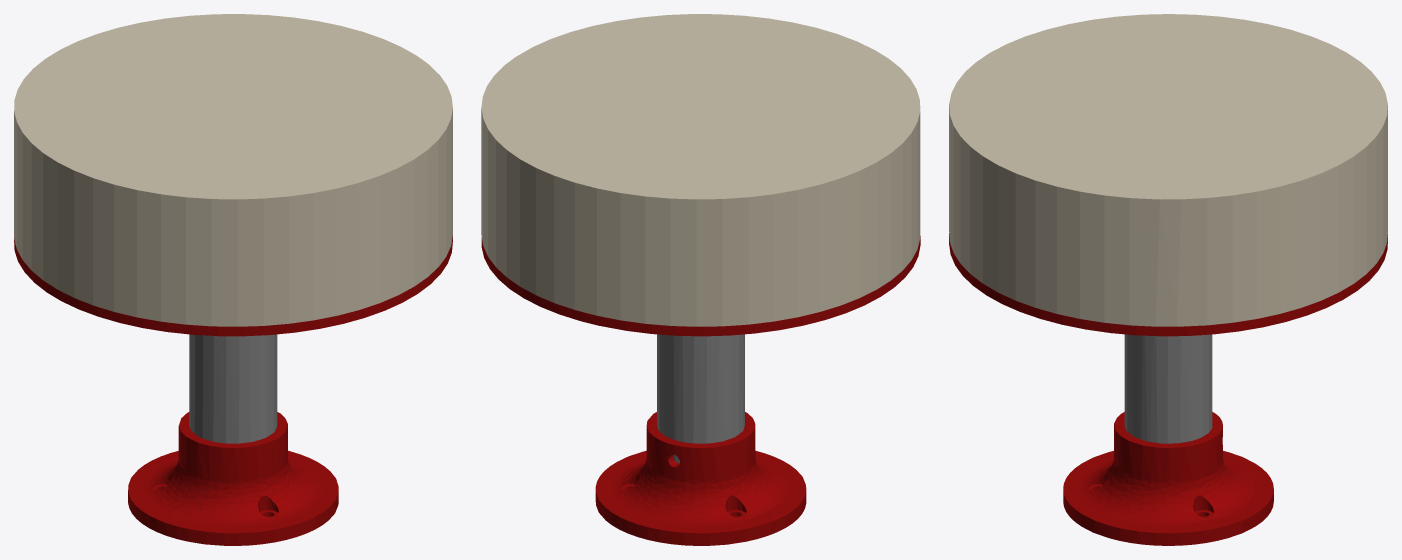
The model's file is end_effector_brush.dae.
3 renders of one model, left to right at view 1: azimuth 30°, elevation 25°; view 2: azimuth 150°, elevation 25°; view 3: azimuth 270°, elevation 25°, orthographic.
Parts seen in each view (by area): view 1: Shape_IndexedFaceSet.003; view 2: Shape_IndexedFaceSet.003; view 3: Shape_IndexedFaceSet.003.
Boxes of the visible parts, <box> form: Shape_IndexedFaceSet.003: <box>14,14,452,545</box>; Shape_IndexedFaceSet.003: <box>481,14,920,545</box>; Shape_IndexedFaceSet.003: <box>949,14,1387,545</box>.
Size of the model in its own units: 0.125 by 0.125 by 0.124.
